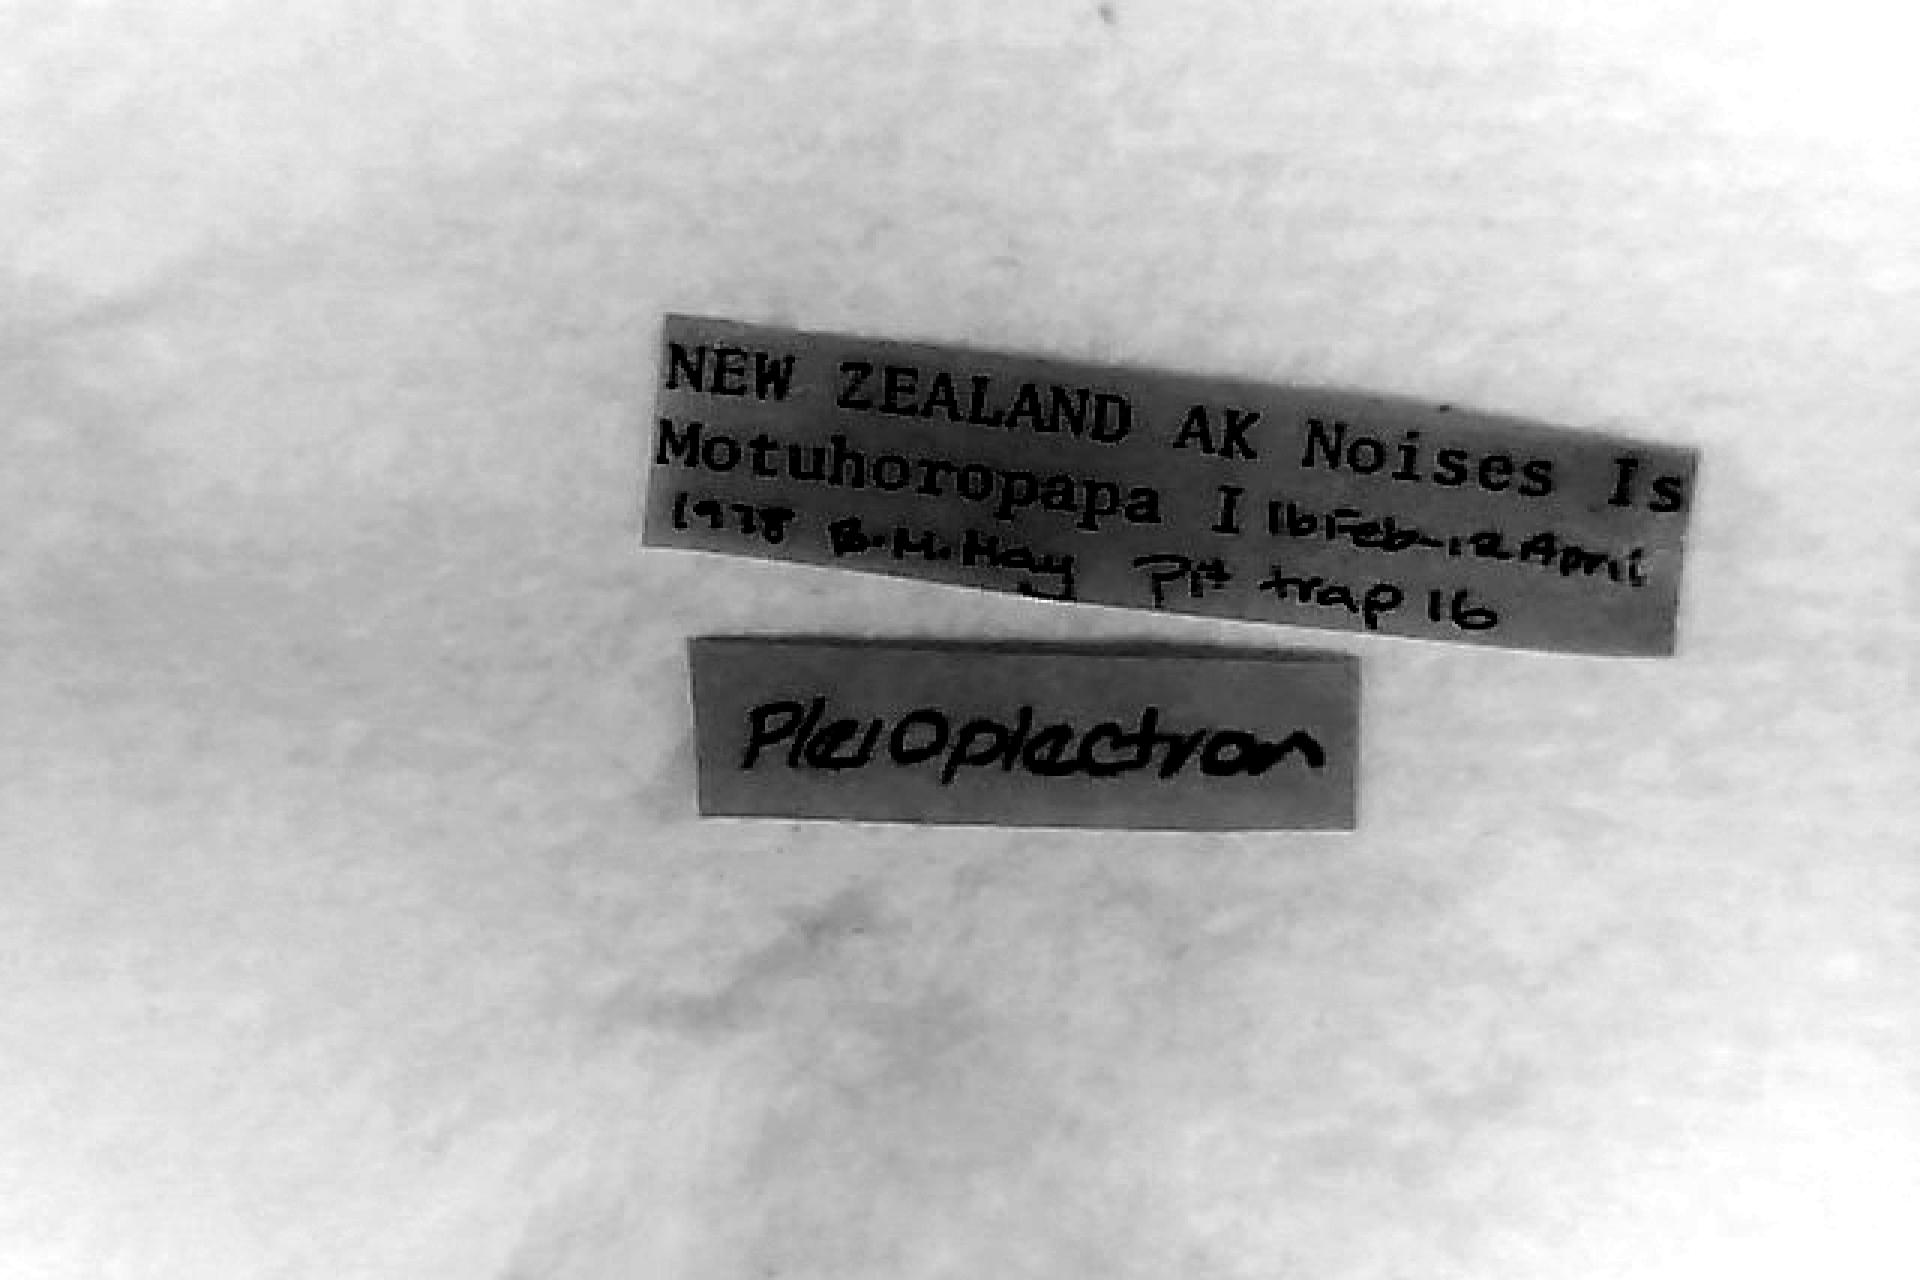hand_label: (690, 637, 1354, 828)
mixed_label: (645, 317, 1693, 655)
